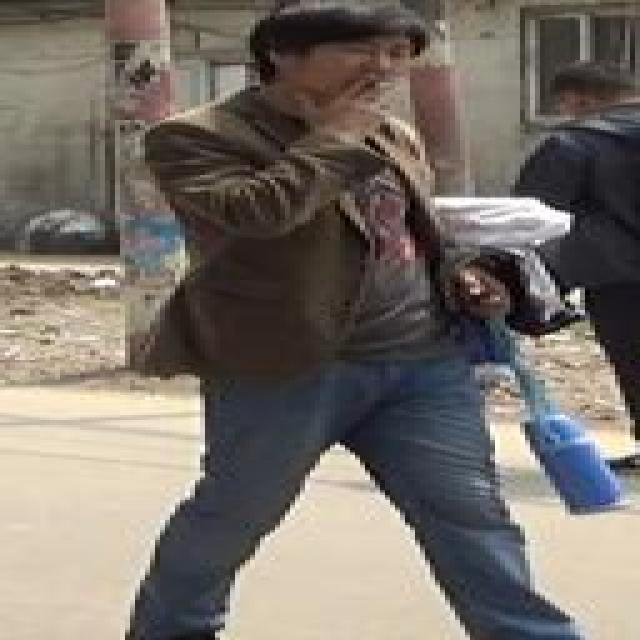adult: (110, 0, 595, 640), (508, 84, 640, 474)
